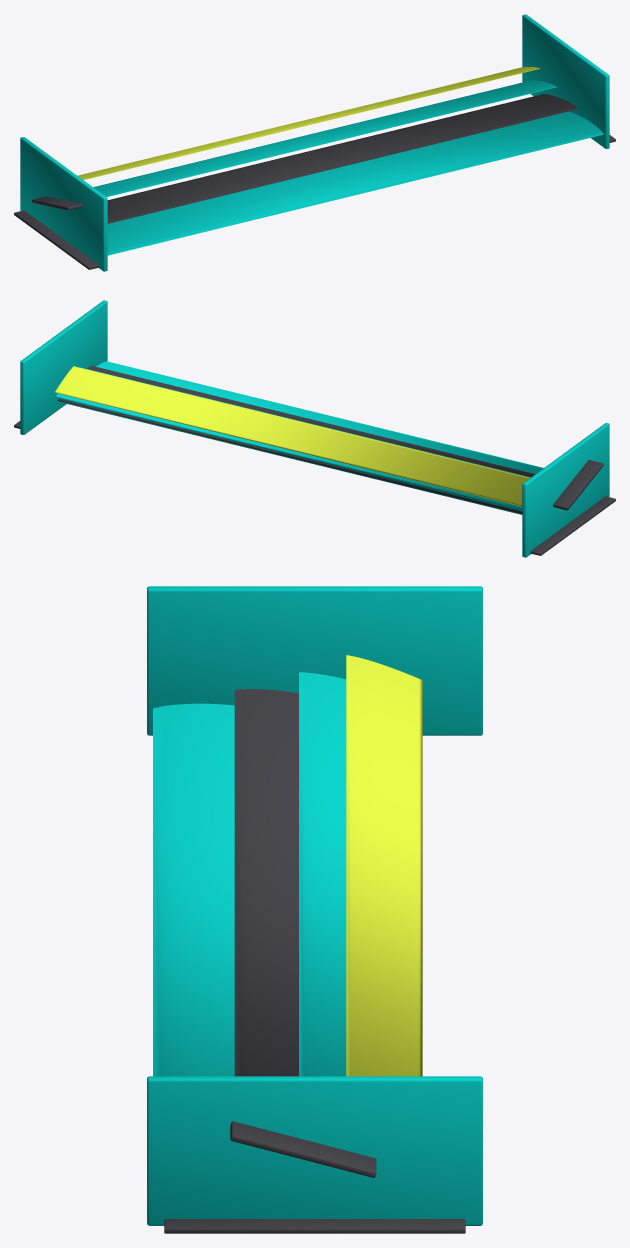
Rendered from f1_frontwing_outwash4.glb.
3 renders of one model, top to bottom at view 1: azimuth 30°, elevation 25°; view 2: azimuth 150°, elevation 25°; view 3: azimuth 270°, elevation 25°, orthographic. The views are drawn at different scales.
Parts seen in each view (by area): view 1: F1_FrontWing_Outwash4; view 2: F1_FrontWing_Outwash4; view 3: F1_FrontWing_Outwash4.
Part boxes in pixels (x1,y1,x2,y2): F1_FrontWing_Outwash4: [14, 14, 615, 271]; F1_FrontWing_Outwash4: [14, 300, 615, 557]; F1_FrontWing_Outwash4: [147, 586, 482, 1233].
Bounding box in the file's own units: 2.13 × 0.28 × 0.58.
